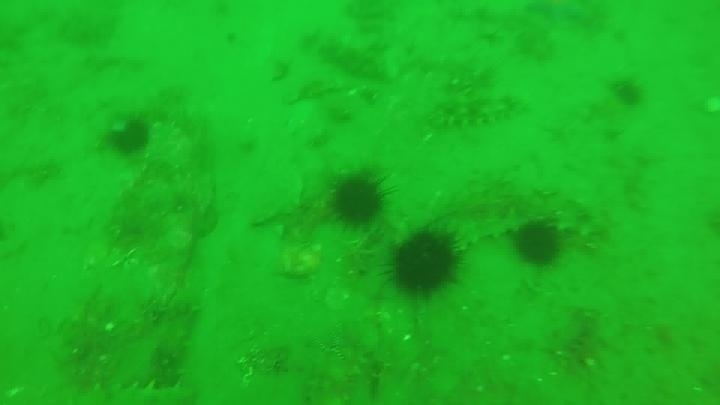echinus: (386, 226, 465, 299), (328, 171, 391, 228), (512, 220, 564, 268), (107, 117, 153, 157), (608, 76, 646, 109)
holothurian: (430, 172, 609, 245), (144, 294, 202, 390), (302, 27, 394, 83), (426, 90, 527, 132), (90, 382, 205, 405)
starfish: (523, 1, 597, 29)
